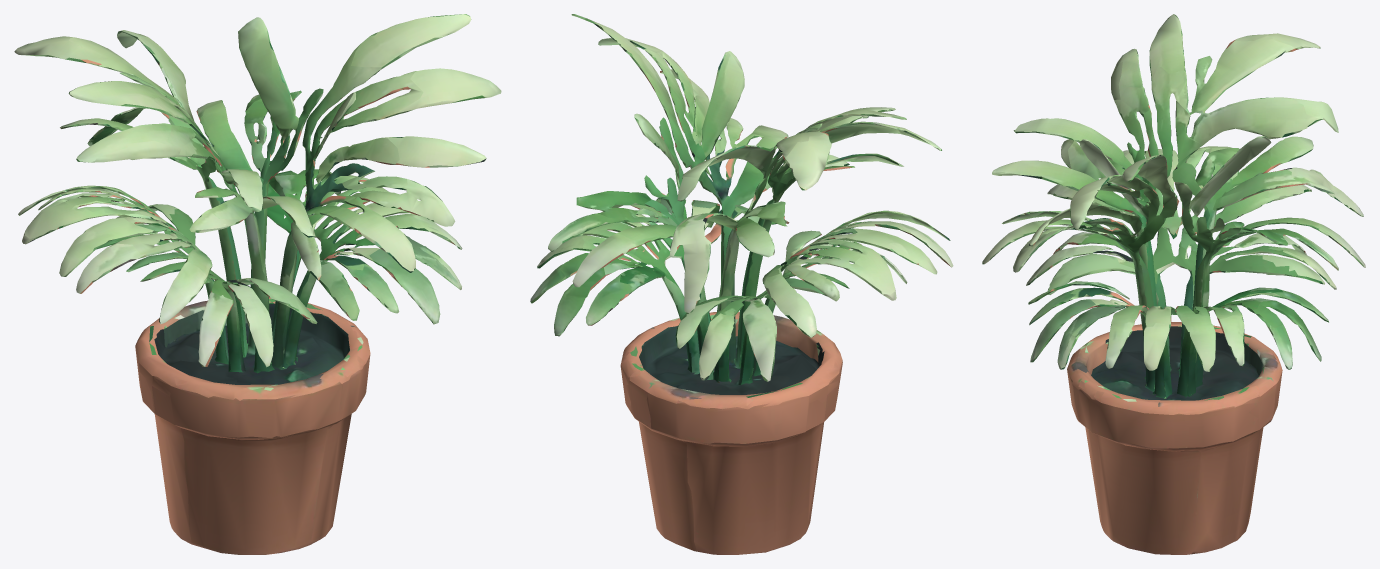
Rendered from palm.glb.
The picture shows the model from 3 angles, left to right: view 1: azimuth 30°, elevation 25°; view 2: azimuth 150°, elevation 25°; view 3: azimuth 270°, elevation 25°; orthographic projection. The views are drawn at different scales.
Visible parts, largest first — view 1: tmpre2kddby.ply; view 2: tmpre2kddby.ply; view 3: tmpre2kddby.ply.
Part boxes in pixels (bbox=[...]): tmpre2kddby.ply: bbox=[14, 14, 501, 554]; tmpre2kddby.ply: bbox=[530, 14, 953, 554]; tmpre2kddby.ply: bbox=[982, 14, 1365, 554].
Size of the model in its own units: 0.8627 by 0.9858 by 0.7916.
1 material, 1 textured.
